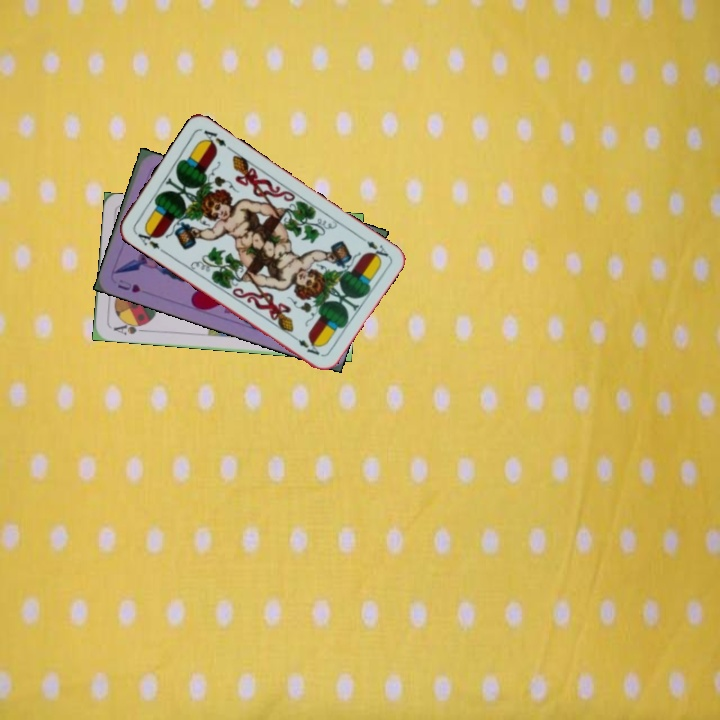EA: (355, 232, 391, 262), (130, 225, 162, 252)
HU: (114, 275, 143, 295)
SA: (110, 318, 149, 337)
